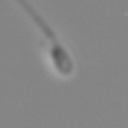abnormal: (17, 1, 61, 47)
